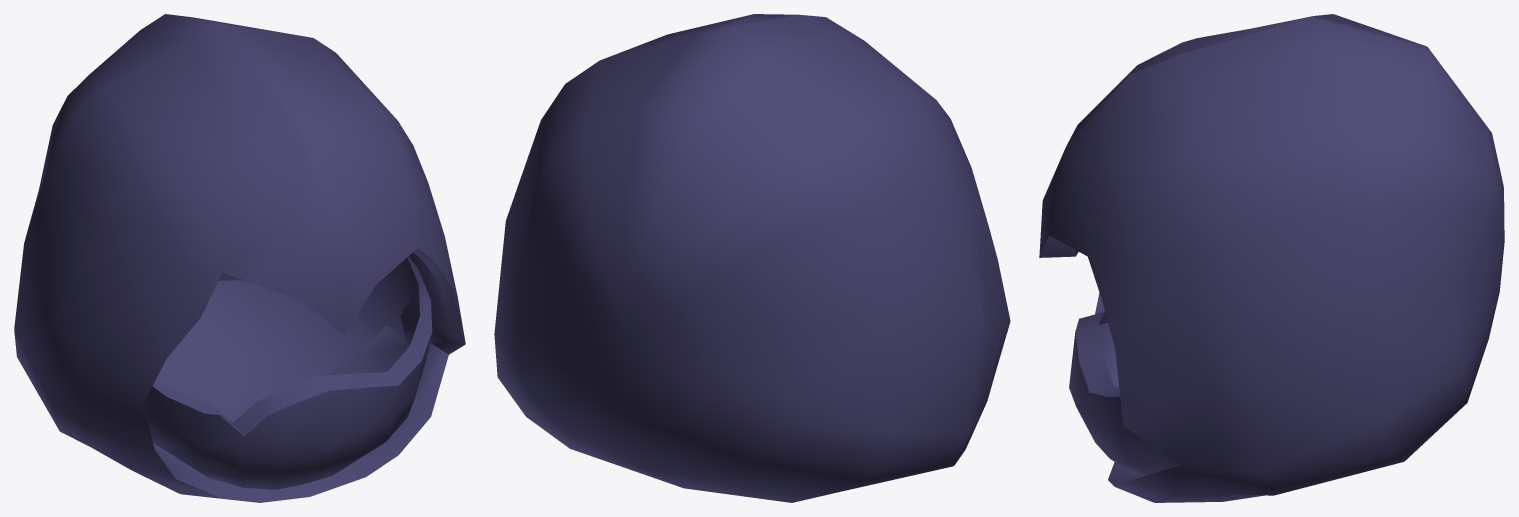
File: skeleton_hood_masked.gltf.glb
3 renders of one model, left to right at view 1: azimuth 30°, elevation 25°; view 2: azimuth 150°, elevation 25°; view 3: azimuth 270°, elevation 25°, orthographic. The views are drawn at different scales.
Parts seen in each view (by area): view 1: skeleton_hood_masked; view 2: skeleton_hood_masked; view 3: skeleton_hood_masked.
Part boxes in pixels (x1,y1,x2,y2): skeleton_hood_masked: (14,14,465,502); skeleton_hood_masked: (494,14,1010,502); skeleton_hood_masked: (1039,14,1504,502).
Size of the model in its own units: 1.12 by 1.15 by 1.08.
